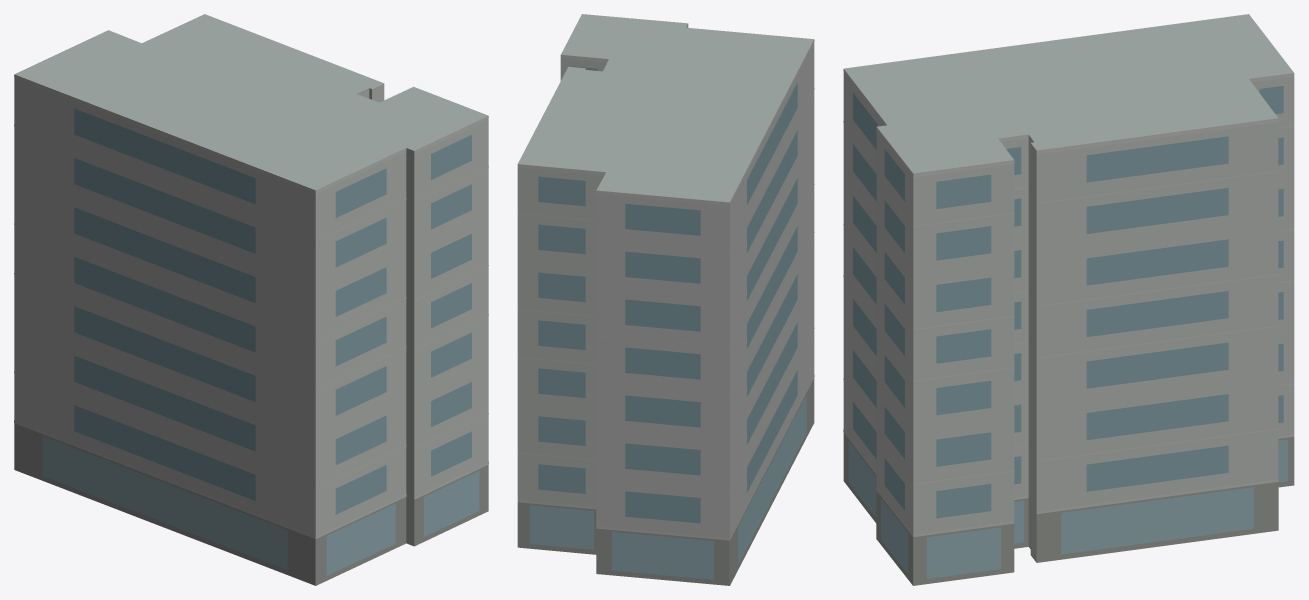
The model's file is survey-upis-32617557.glb.
The picture shows the model from 3 angles, left to right: view 1: azimuth 30°, elevation 25°; view 2: azimuth 150°, elevation 25°; view 3: azimuth 270°, elevation 25°; orthographic projection. The views are drawn at different scales.
Visible parts, largest first — view 1: survey-upis-32617557.tmp; view 2: survey-upis-32617557.tmp; view 3: survey-upis-32617557.tmp.
Part boxes in pixels (left/top/right/bottom): survey-upis-32617557.tmp: left=14, top=14, right=488, bottom=585; survey-upis-32617557.tmp: left=517, top=14, right=814, bottom=585; survey-upis-32617557.tmp: left=843, top=14, right=1294, bottom=585.
Bounding box in the file's own units: 20.02 × 24.1 × 23.9.
